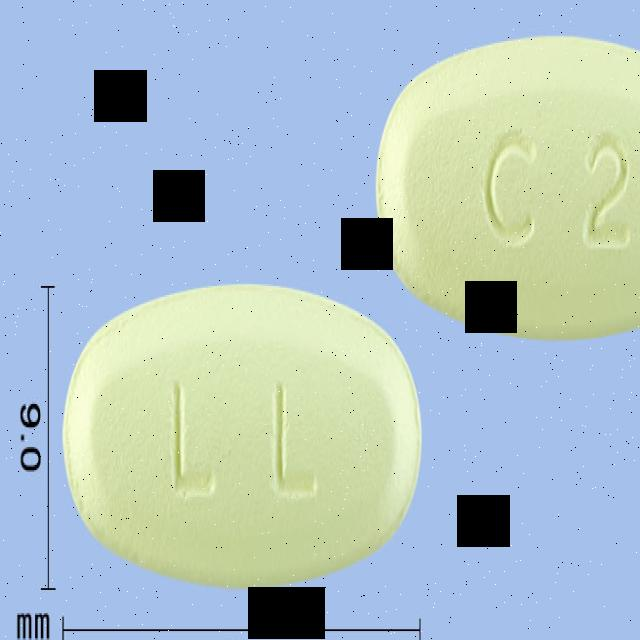Clratomin: (64, 281, 424, 590), (376, 28, 640, 334)
